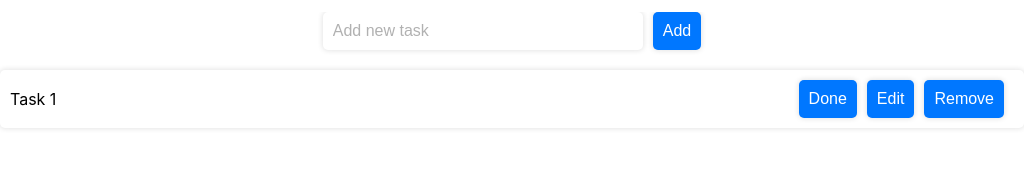
Test: ToDoList component › should remove a task when the Remove button is clicked
Click the button with test id "todo-item-1-remove".
click(964, 99)  # box 924,80 -> 1004,118
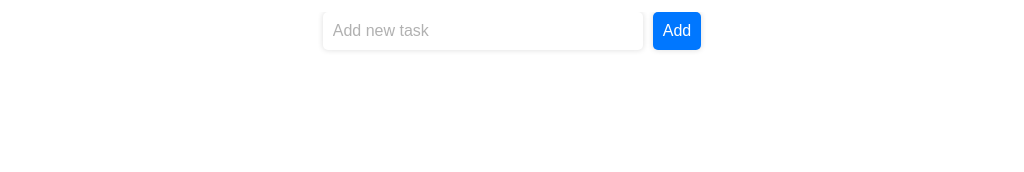
Expected: the text with test id "todo-item-1-task" is gone
